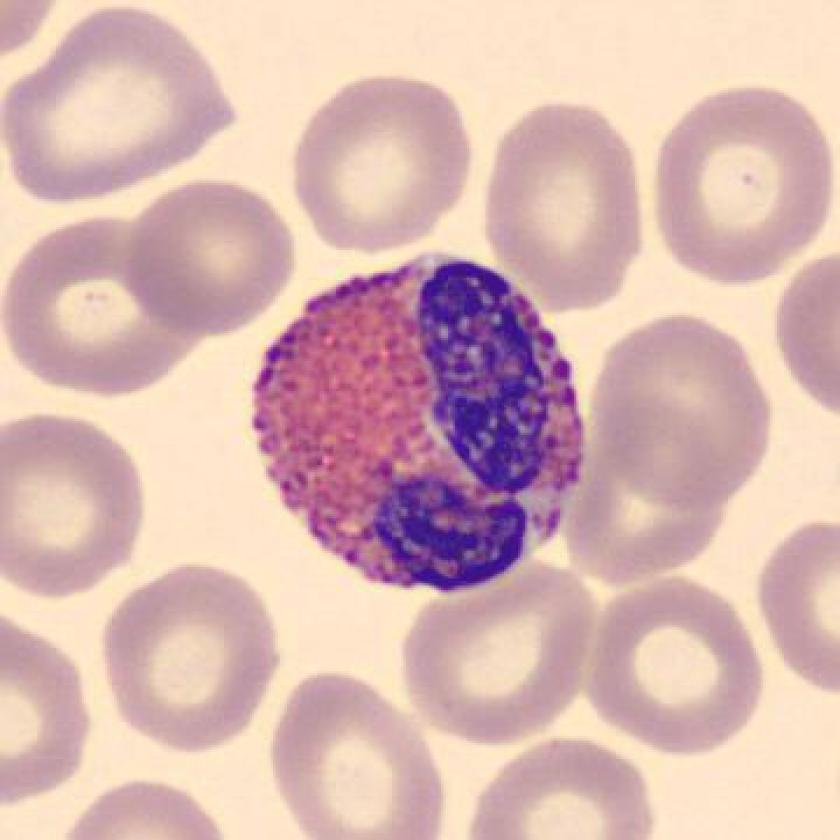eosinophil: (241, 242, 608, 603)
